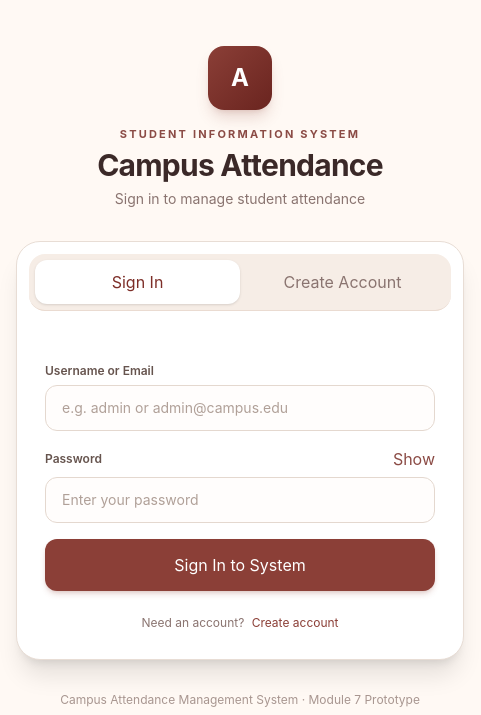
AuthView › handles registration flow and returns to login view with success alert
# Switch to register tab
Click the button "Create Account": (342, 282) [240, 260, 445, 304]
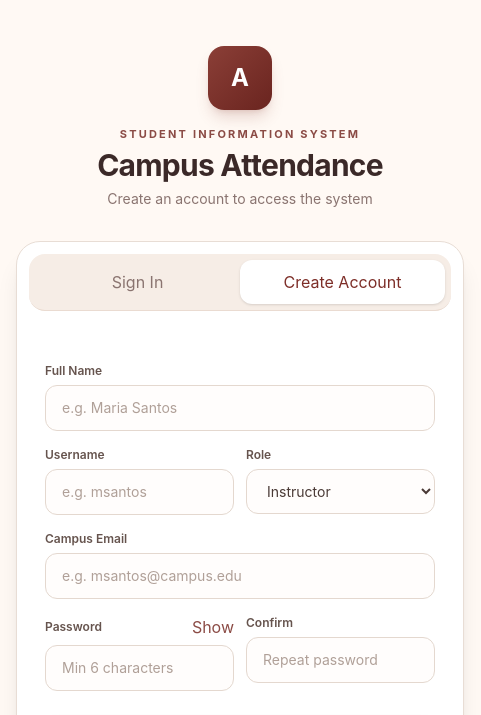
# Fill form
In the field named "Full Name": (240, 408) [45, 384, 435, 430], type "Dr. Jose Rizal"
In the field named "Username": (140, 492) [45, 468, 234, 514], type "jrizal"
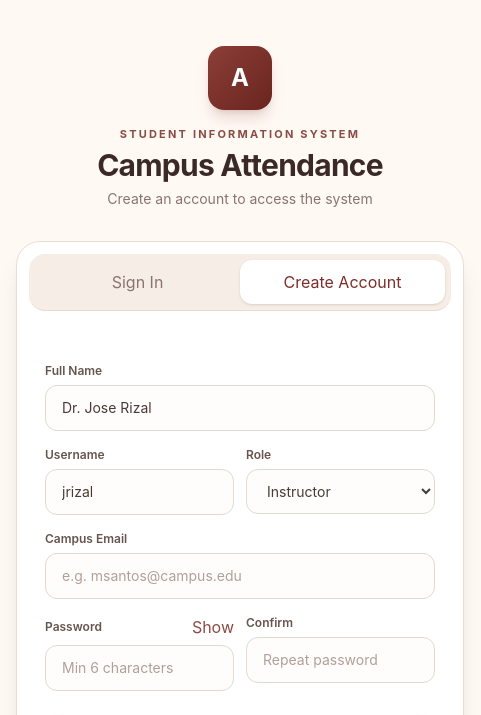
In the field named "Campus Email": (240, 576) [45, 552, 435, 598], type "jrizal@campus.edu"
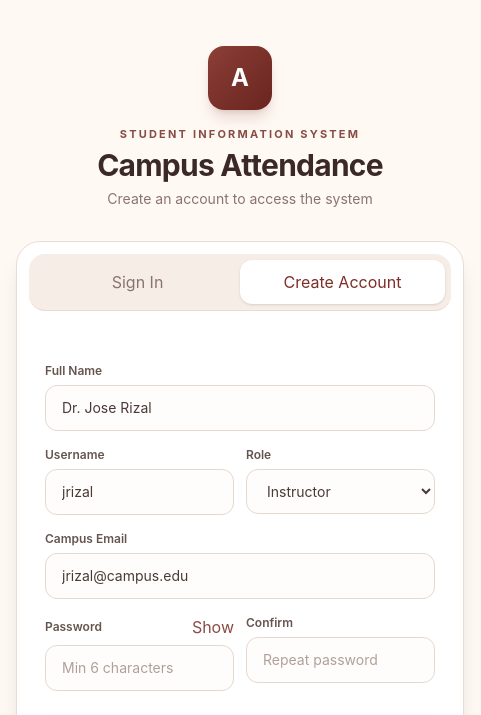
In the password field named "New Password": (140, 668) [45, 644, 234, 690], type "password123"
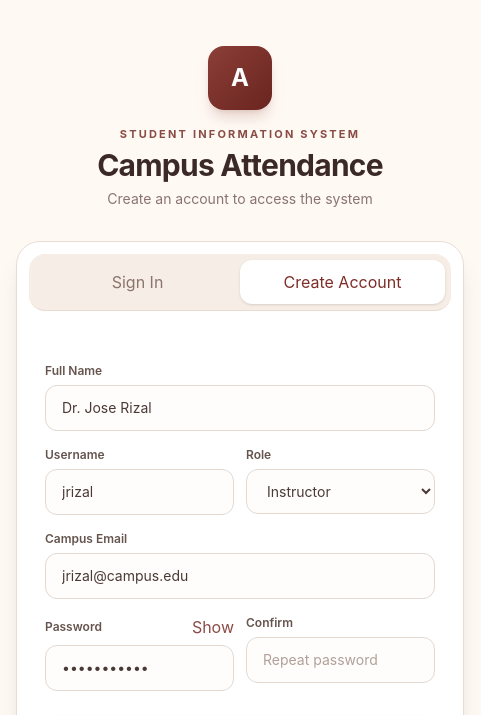
In the password field named "Confirm Password": (340, 660) [246, 636, 435, 682], type "password123"
(page scrolled)
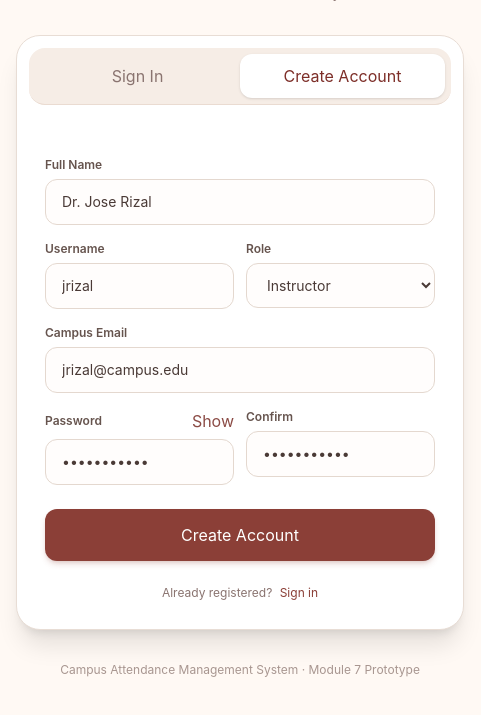
Submit the form, box [45, 156, 435, 560]
(page scrolled)
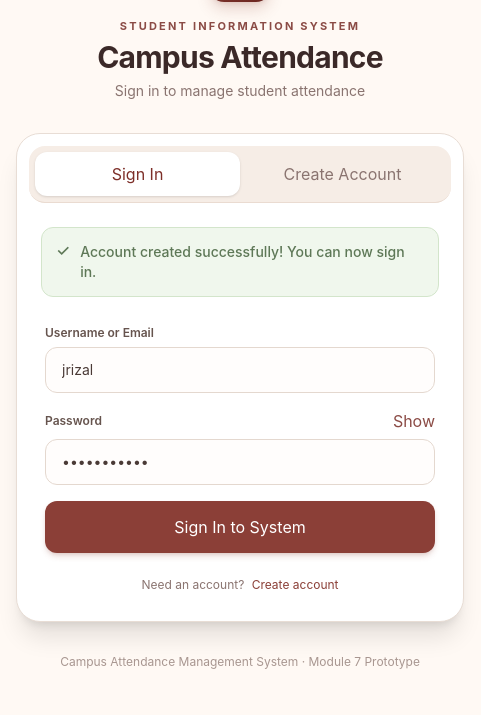
expect the text "Account created successfully" is shown: met, box [80, 242, 405, 280]
expect the field named "Username or Email" holds "jrizal": met, box [45, 346, 435, 392]
